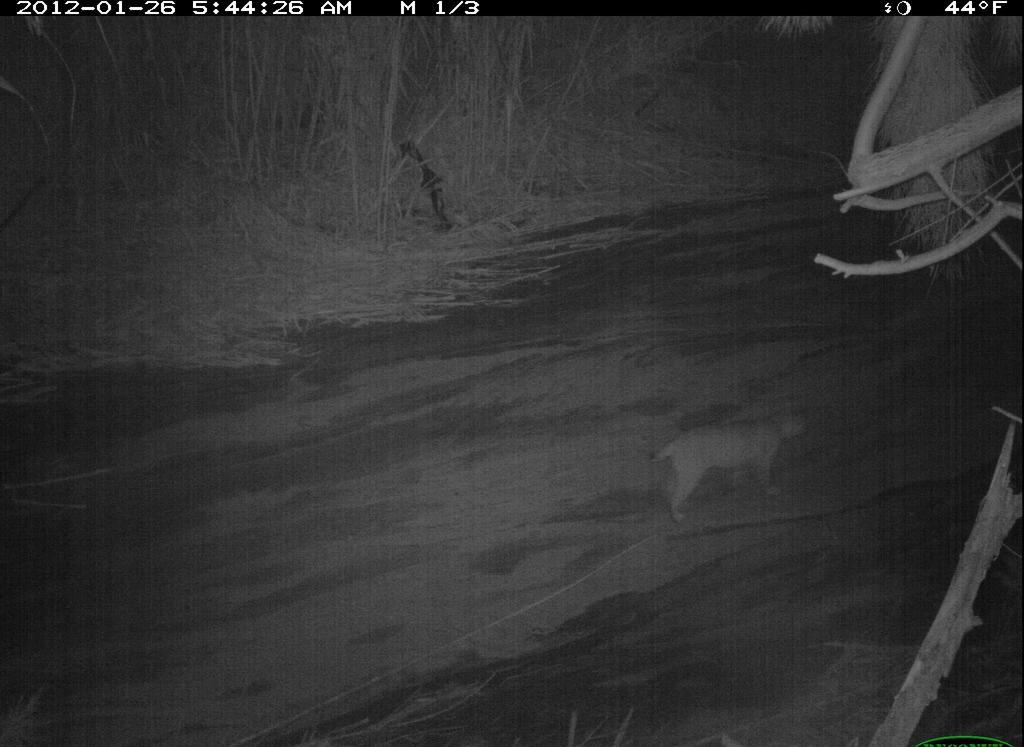bobcat: (647, 395, 815, 529)
